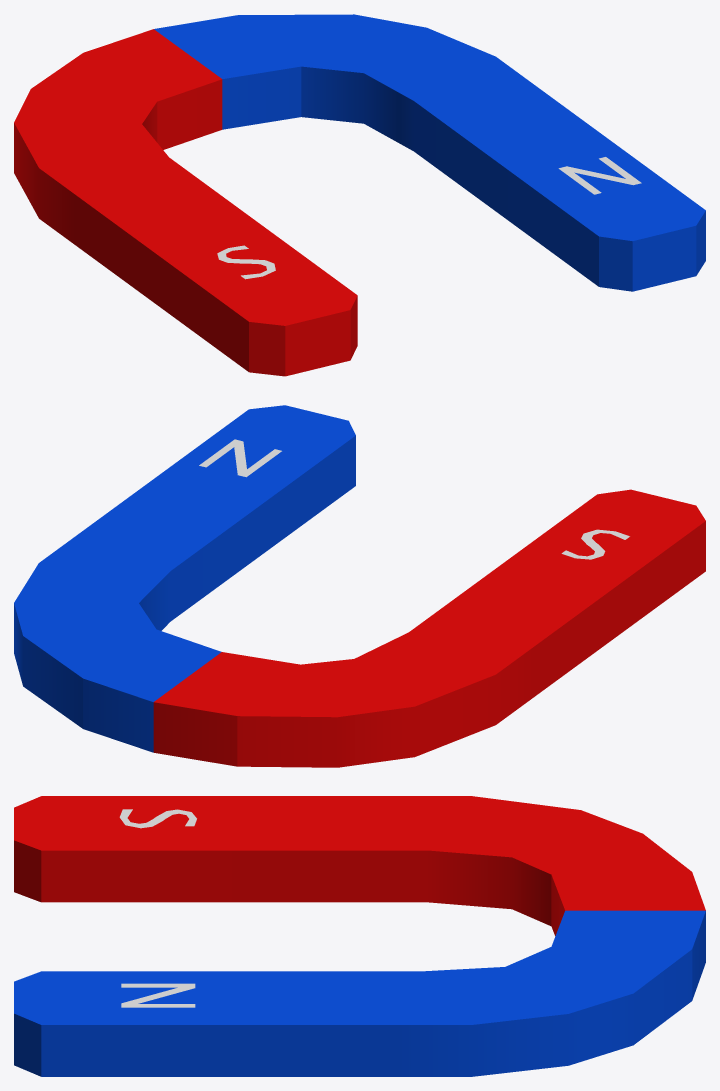
The model's file is U magnet.fbx.
3 renders of one model, top to bottom at view 1: azimuth 30°, elevation 25°; view 2: azimuth 150°, elevation 25°; view 3: azimuth 270°, elevation 25°, orthographic. The views are drawn at different scales.
Visible parts, largest first — view 1: U_magnet; view 2: U_magnet; view 3: U_magnet.
Boxes of the visible parts, box(x1,y1,x2,y2) form: U_magnet: box(14, 14, 705, 376); U_magnet: box(14, 405, 705, 767); U_magnet: box(14, 796, 705, 1076).
Size of the model in its own units: 4.1 by 0.4742 by 5.24.
